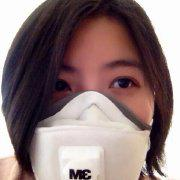OK: (28, 49, 153, 179)
